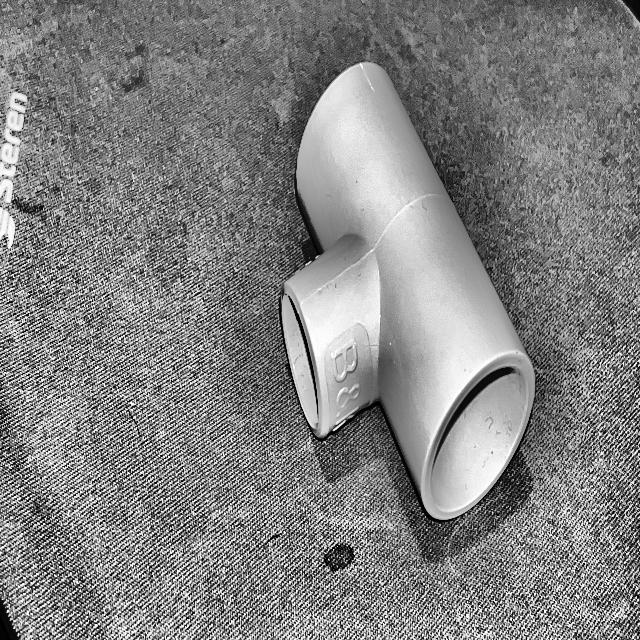EQUALTEE: (284, 62, 536, 522)
